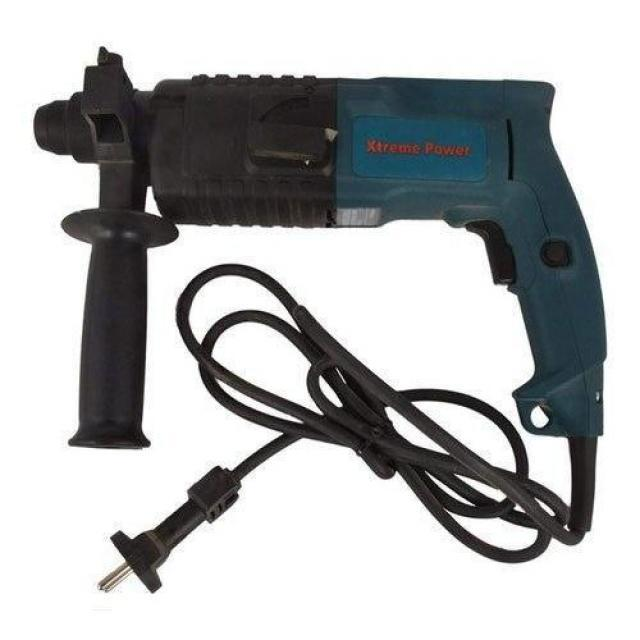drill: (33, 47, 607, 532)
